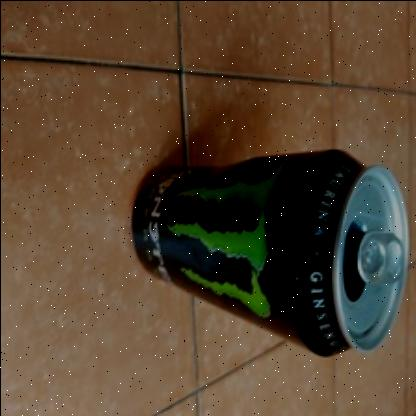Can: (131, 149, 409, 357)
